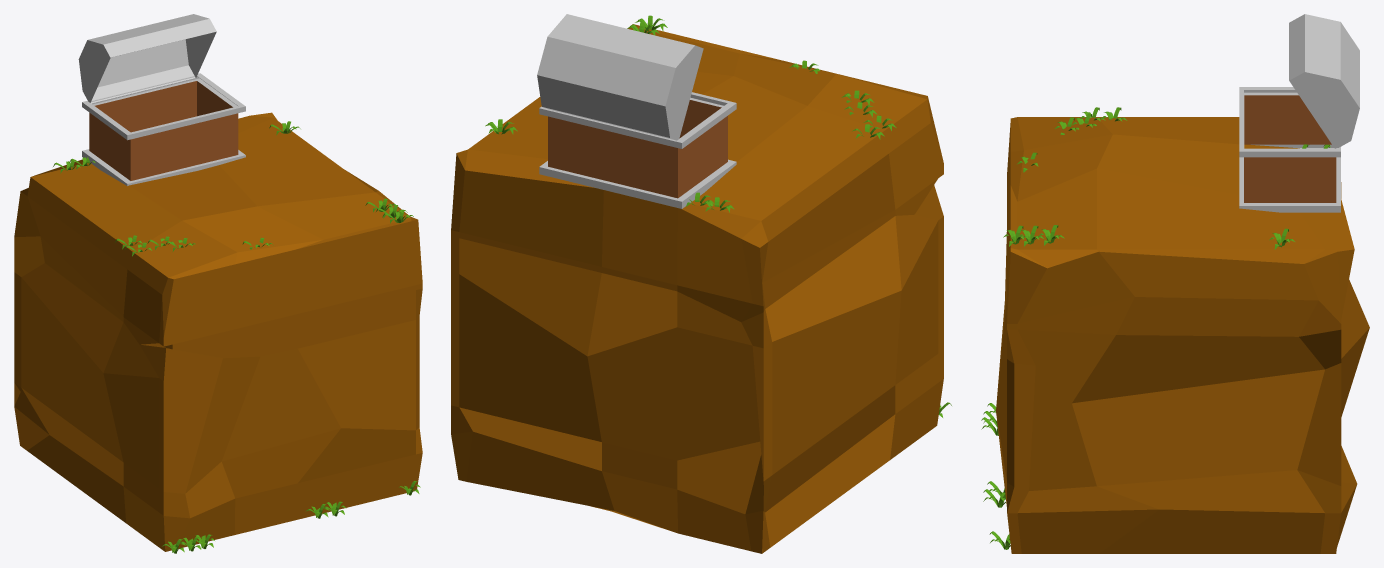
Rendered from block5.obj.
3 renders of one model, left to right at view 1: azimuth 30°, elevation 25°; view 2: azimuth 150°, elevation 25°; view 3: azimuth 270°, elevation 25°, orthographic. The views are drawn at different scales.
Parts seen in each view (by area): view 1: Plane.032_Plane.038, Cube; view 2: Plane.032_Plane.038, Cube; view 3: Plane.032_Plane.038, Cube.
Part boxes in pixels (<box>): Plane.032_Plane.038: <box>14,112,422,553</box>; Cube: <box>78,14,245,185</box>; Plane.032_Plane.038: <box>451,15,951,553</box>; Cube: <box>537,14,736,208</box>; Plane.032_Plane.038: <box>981,107,1369,553</box>; Cube: <box>1239,14,1359,212</box>.
Bounding box in the file's own units: 4.35 × 5.82 × 4.66.
